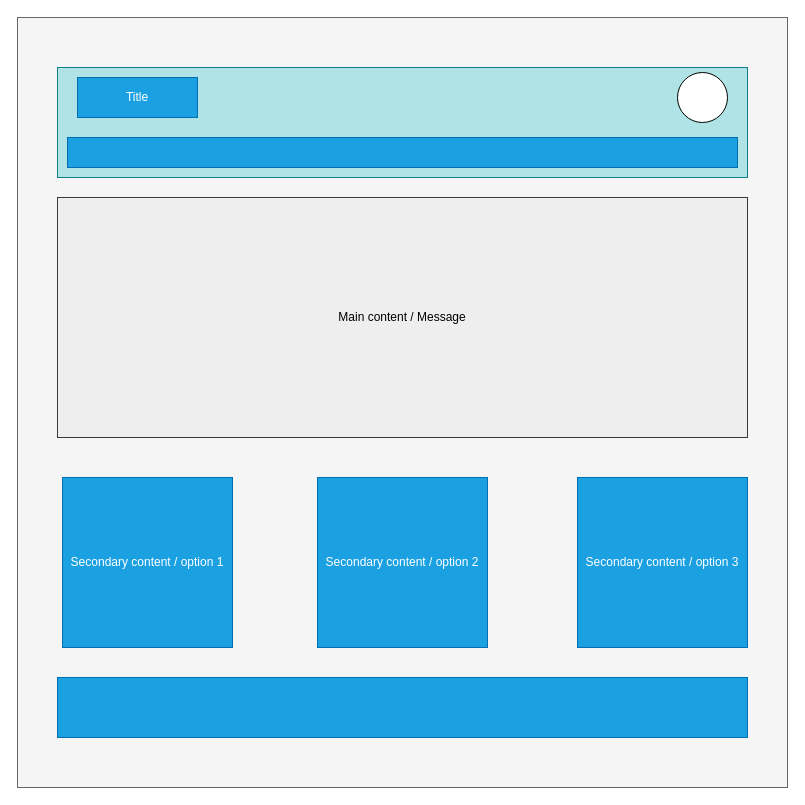
Some shapes in this 805 by 805 pixel diagram are drawn without their labels. The shapes that lost their labels are listed below. From the top down, each one's centre as x and y in pixels, then its label:
At (702,97): "Logo".
At (402,152): "Navigation".
At (402,707): "Footer".
